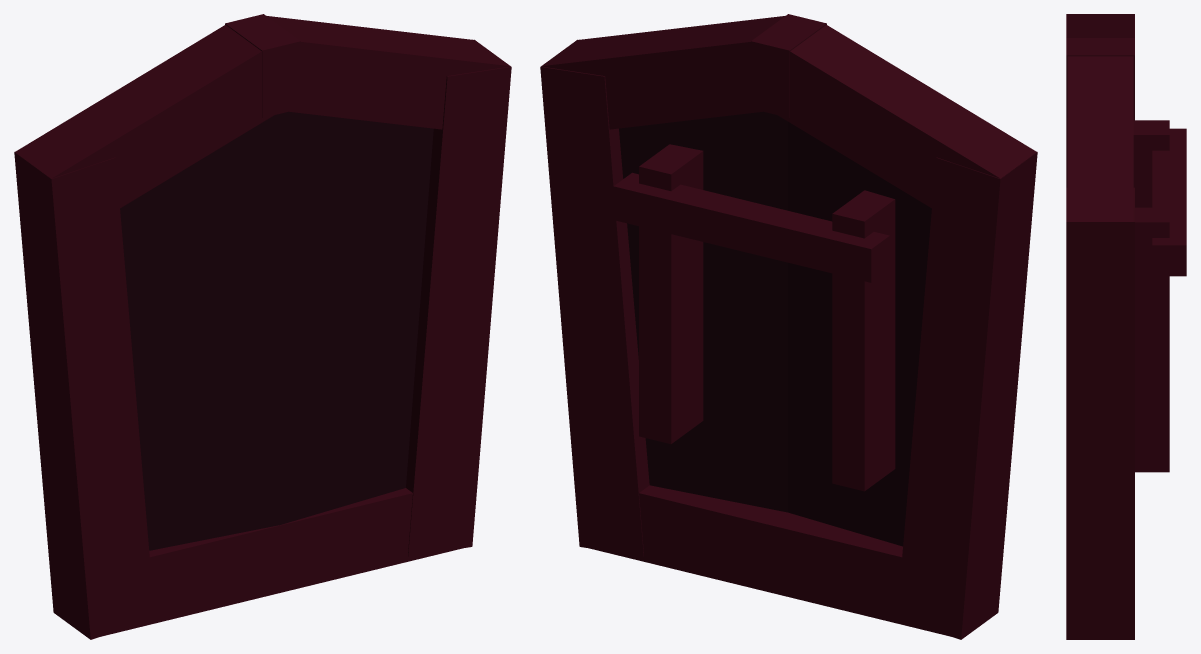
Rendered from PrototypeFullReflectionShield.fbx.
The picture shows the model from 3 angles, left to right: view 1: azimuth 30°, elevation 25°; view 2: azimuth 150°, elevation 25°; view 3: azimuth 270°, elevation 25°; orthographic projection. The views are drawn at different scales.
Visible parts, largest first — view 1: Cube.004, Cube.005; view 2: Cube.004, Cube.005, Cube.017; view 3: Cube.004, Cube.017.
Part boxes in pixels (box(x1,y1,x2,y2)): Cube.004: box(14, 14, 511, 639); Cube.005: box(120, 111, 433, 550); Cube.004: box(540, 14, 1037, 639); Cube.005: box(619, 111, 931, 546); Cube.017: box(613, 144, 895, 491); Cube.004: box(1066, 14, 1134, 639); Cube.017: box(1133, 120, 1186, 472).
Bounding box in the file's own units: 143 × 162 × 35.
